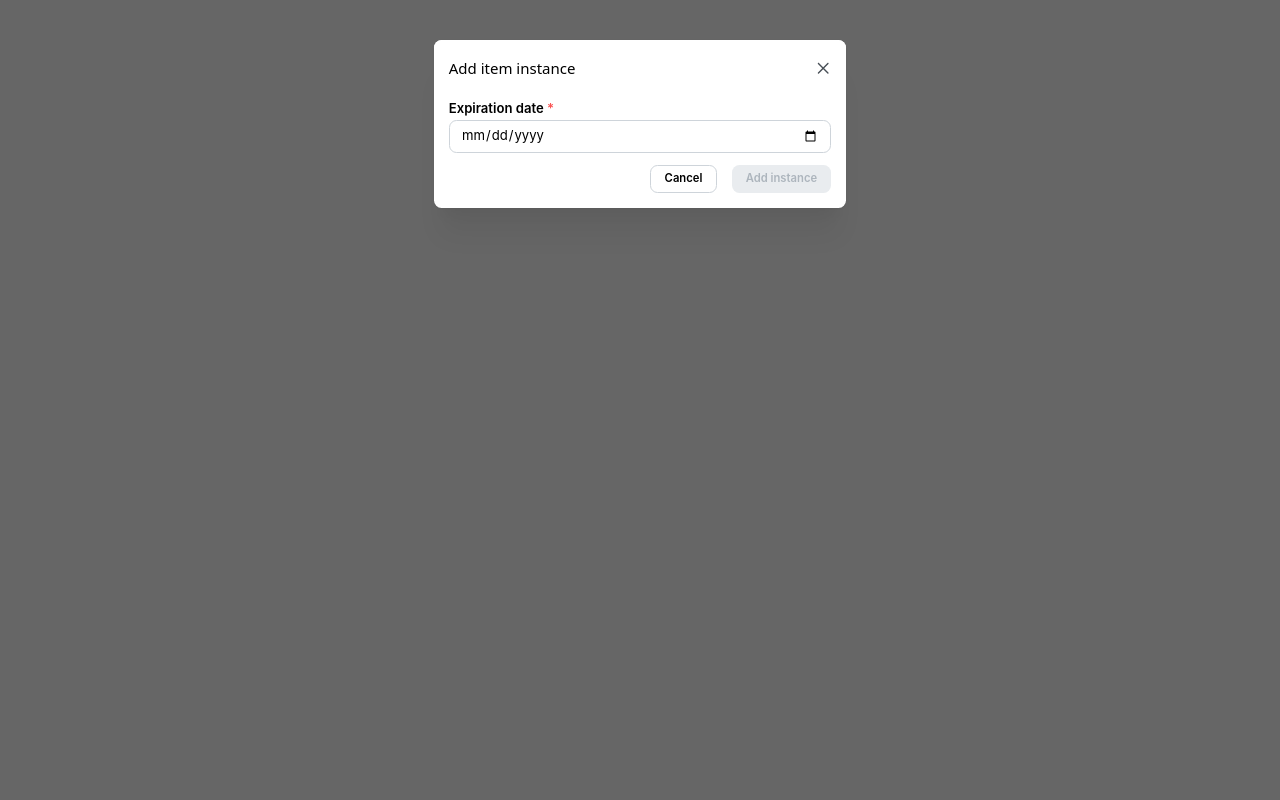
Test: AddInstanceModal › keeps the modal open and displays the API error when creation fails
Type "2026-04-15" into the date field labelled "Expiration date *".
click(640, 136); type("2026-04-15")  # box x1=449 y1=120 x2=831 y2=153
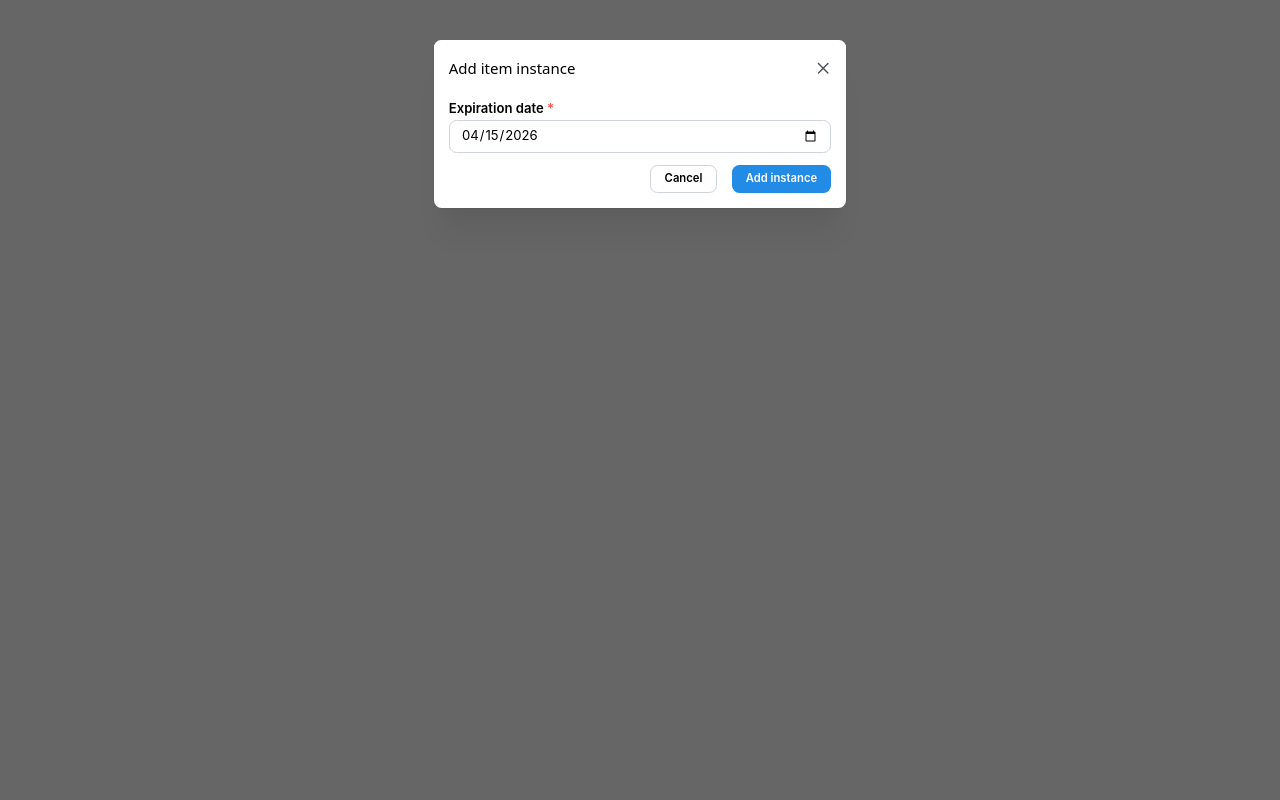
Click the button "Add instance".
click(781, 179)  # box x1=732 y1=164 x2=831 y2=193
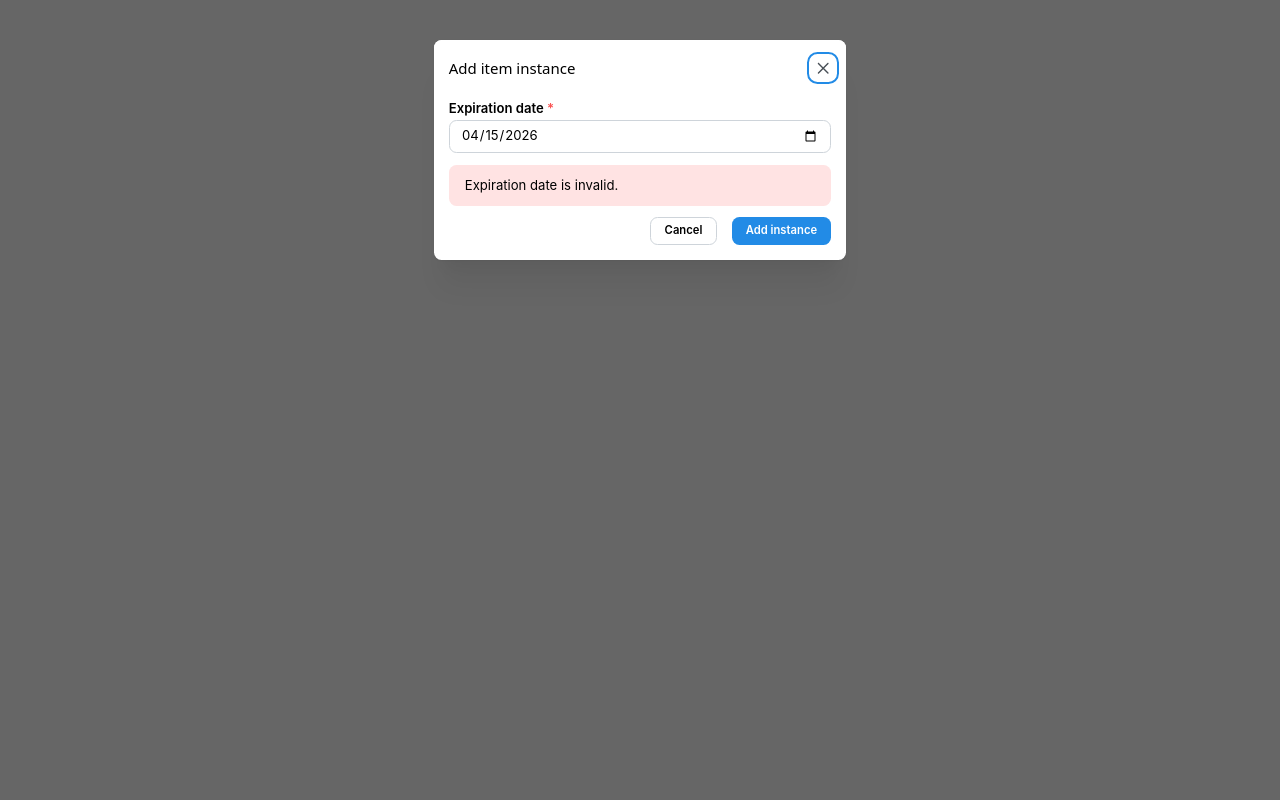
expect the text "Expiration date is invalid." is shown: met, box x1=465 y1=177 x2=618 y2=193
